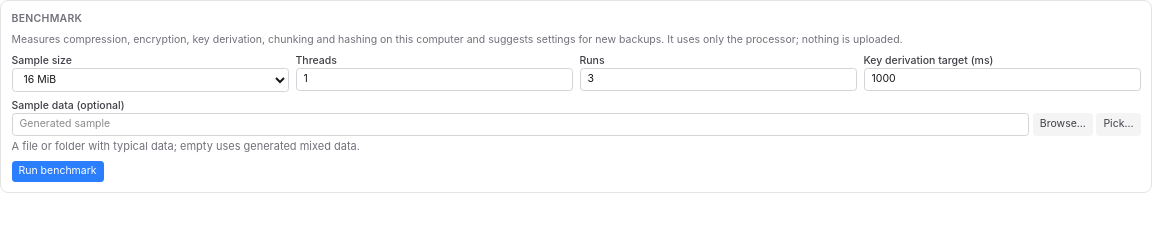
Test case: benchmark › shows backend errors
The width and height of the screenshot is (1152, 247).
Click the button with test id "backup-bench-run". click: (58, 171)
box: [12, 161, 104, 182]
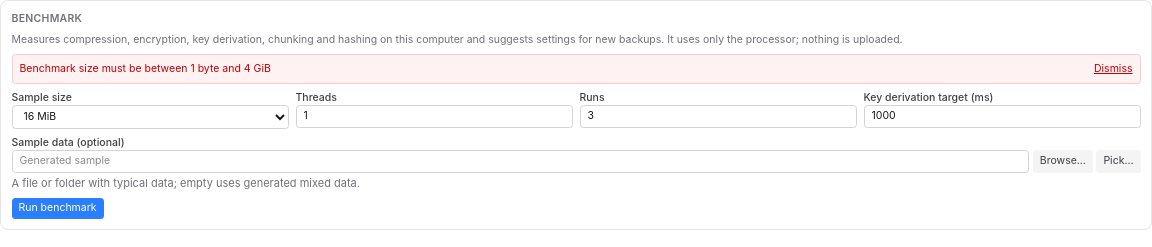
Now the text "Benchmark size must be between 1 byte and 4 GiB" is shown, box [20, 62, 271, 76]
